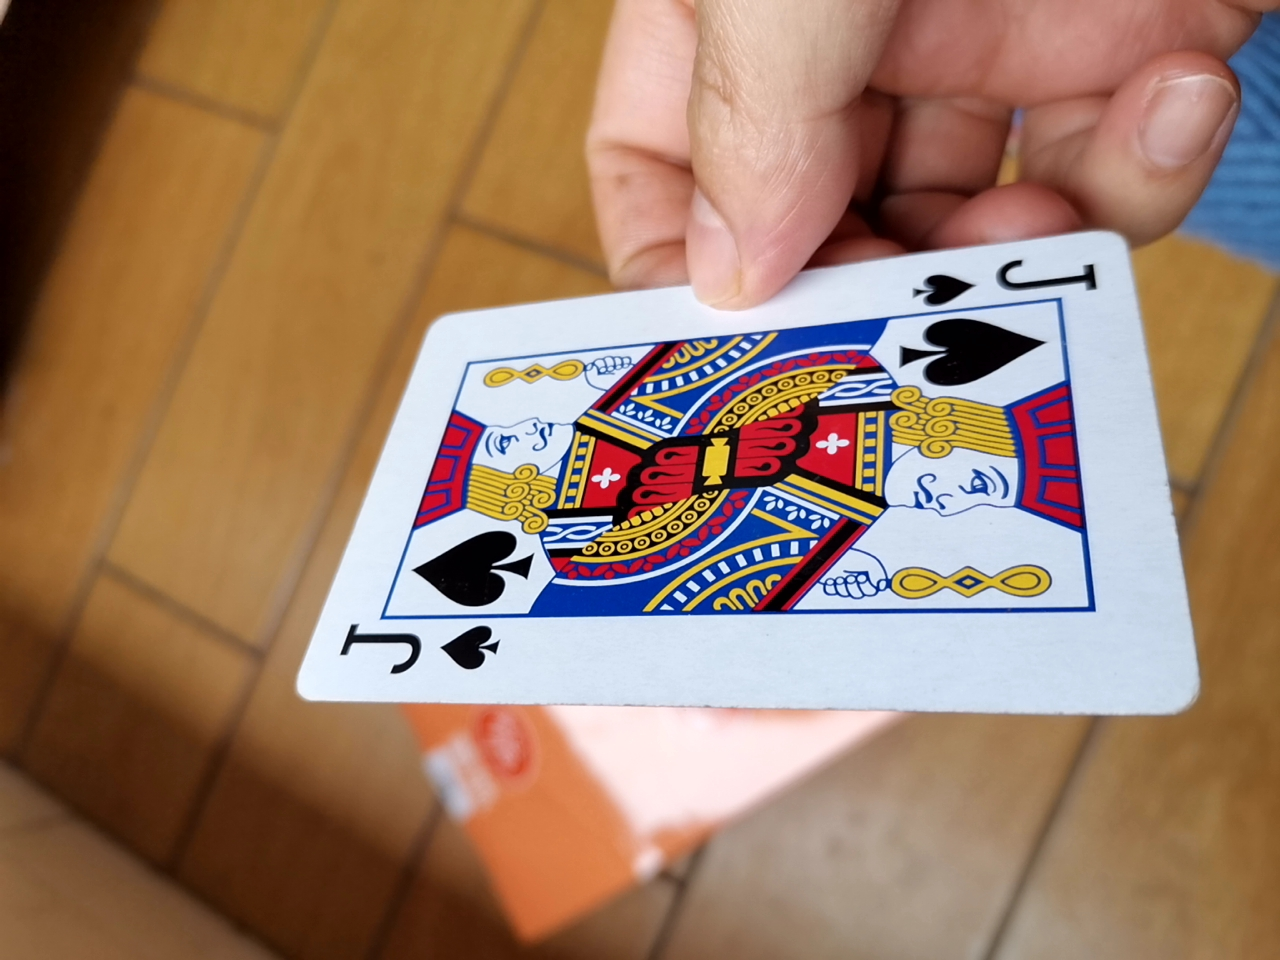ht j: (277, 243, 1199, 750)
